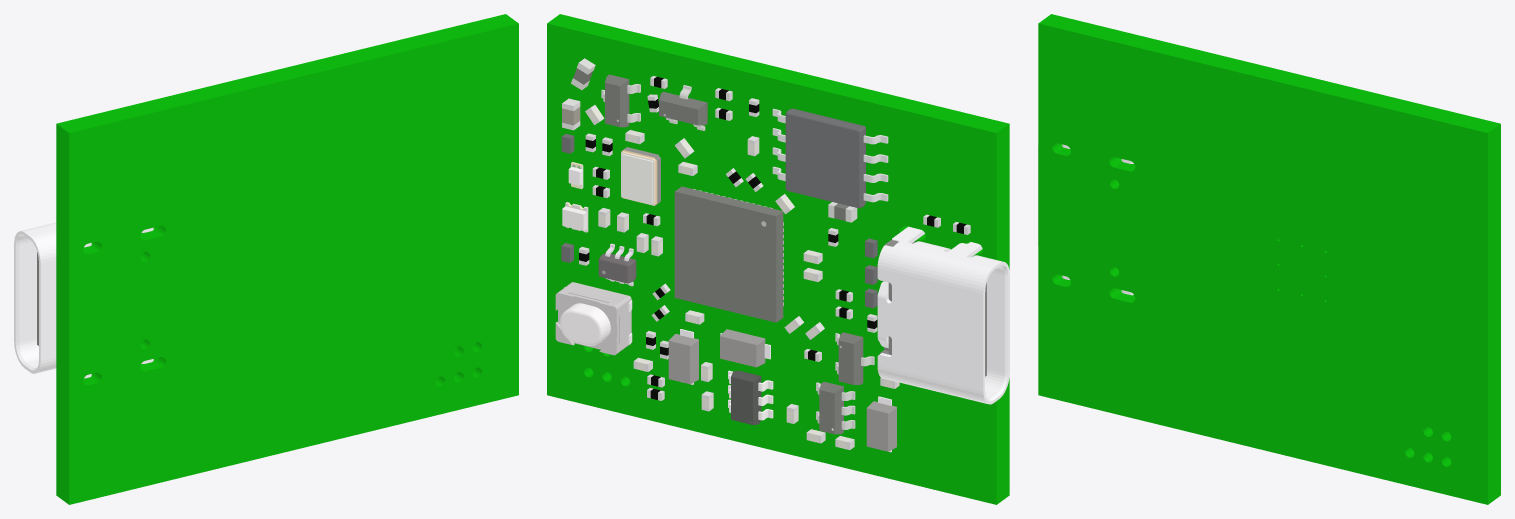
The model's file is vm_rp2040_brain_0.2.glb.
The picture shows the model from 3 angles, left to right: view 1: azimuth 30°, elevation 25°; view 2: azimuth 150°, elevation 25°; view 3: azimuth 330°, elevation 25°; orthographic projection.
Parts seen in each view (by area): view 1: Shape_IndexedFaceSet; view 2: Shape_IndexedFaceSet; view 3: Shape_IndexedFaceSet.
Part boxes in pixels (box(x1,y1,x2,y2)): Shape_IndexedFaceSet: box(14, 14, 518, 504); Shape_IndexedFaceSet: box(547, 14, 1009, 504); Shape_IndexedFaceSet: box(1038, 14, 1500, 504).
Size of the model in its own units: 32 by 24.5 by 4.86.
Materials: 1 (1 with a texture image).
